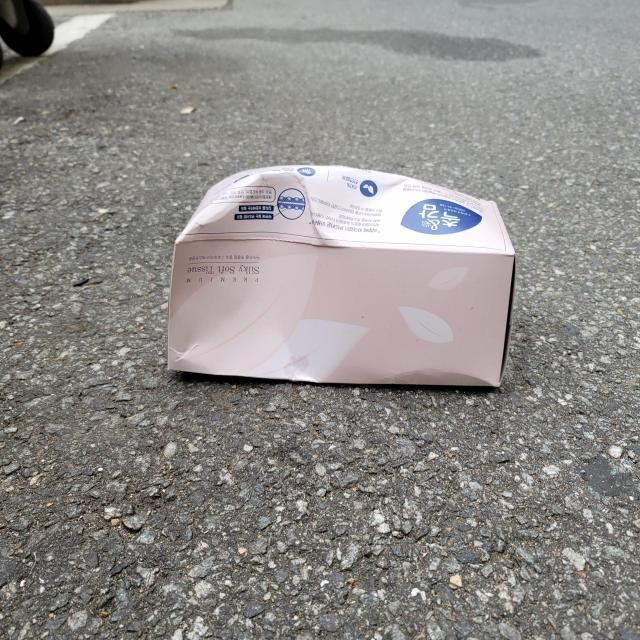paperpack: (167, 166, 516, 386)
